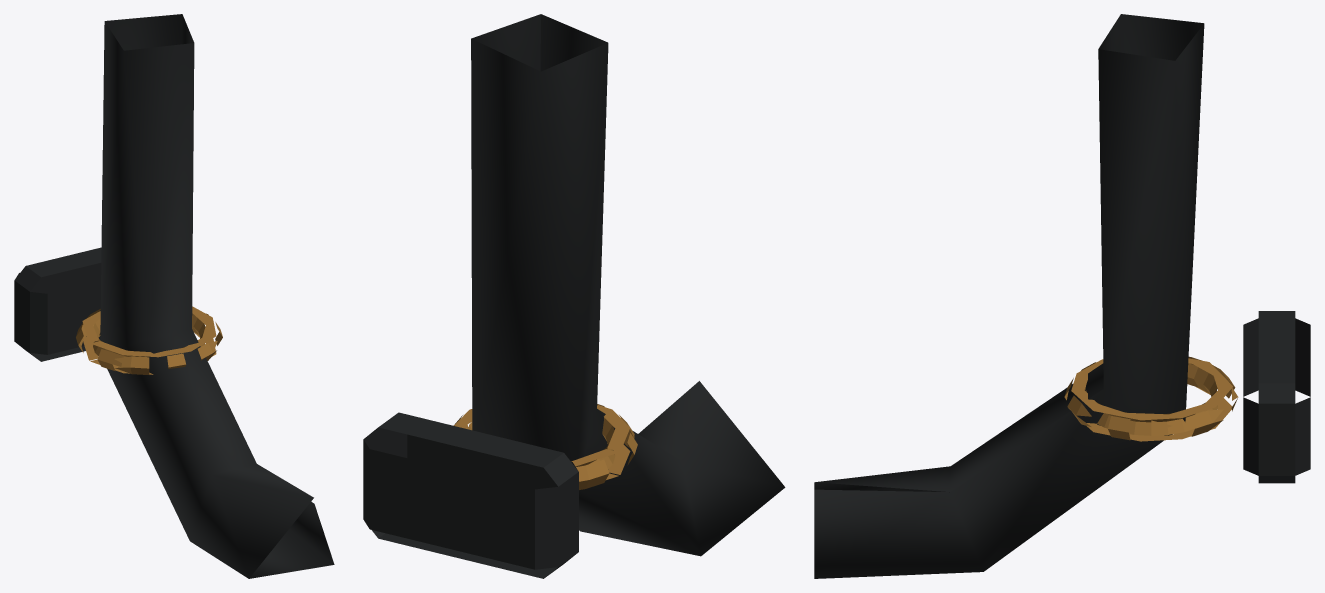
File: DrainpipeShoe.glb
3 views of the same model, side by side, from view 1: azimuth 30°, elevation 25°; view 2: azimuth 150°, elevation 25°; view 3: azimuth 270°, elevation 25° (orthographic). The views are drawn at different scales.
Visible parts, largest first — view 1: BlackIronDrainpipe.002, PipeWallBracket.003, PipeCollar.003; view 2: BlackIronDrainpipe.002, PipeWallBracket.003, PipeCollar.003; view 3: BlackIronDrainpipe.002, PipeWallBracket.003, PipeCollar.003.
Part boxes in pixels (x1=…): BlackIronDrainpipe.002: x1=100, y1=14, x2=334, y2=578; PipeWallBracket.003: x1=14, y1=247, x2=101, y2=361; PipeCollar.003: x1=76, y1=306, x2=222, y2=374; BlackIronDrainpipe.002: x1=471, y1=14, x2=785, y2=556; PipeWallBracket.003: x1=363, y1=412, x2=578, y2=578; PipeCollar.003: x1=453, y1=404, x2=637, y2=489; BlackIronDrainpipe.002: x1=814, y1=14, x2=1204, y2=578; PipeWallBracket.003: x1=1243, y1=311, x2=1310, y2=483; PipeCollar.003: x1=1064, y1=356, x2=1238, y2=441.
Bounding box in the file's own units: 0.33 × 0.9364 × 0.8102.
